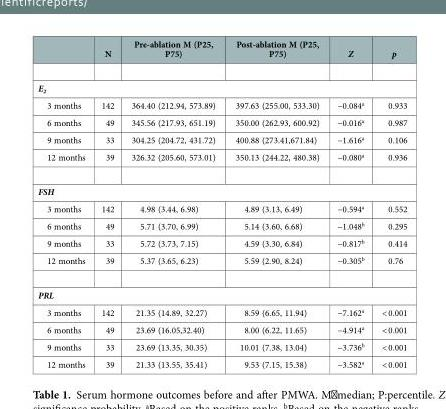table: (37, 37, 406, 369)
table column: (224, 37, 327, 369), (122, 37, 224, 369), (37, 37, 92, 369), (327, 37, 372, 369), (372, 37, 406, 369), (92, 37, 122, 369)
table column header: (37, 37, 406, 70)
table projected row header: (37, 70, 406, 96), (37, 173, 406, 199), (37, 277, 406, 303)
table row: (37, 37, 406, 70), (37, 70, 406, 96), (37, 173, 406, 199), (37, 251, 406, 277), (37, 277, 406, 303), (37, 148, 406, 173), (37, 130, 406, 148), (37, 199, 406, 217), (37, 337, 406, 355), (37, 96, 406, 113), (37, 113, 406, 130), (37, 217, 406, 234), (37, 234, 406, 251), (37, 303, 406, 320), (37, 320, 406, 337), (37, 355, 406, 369)
